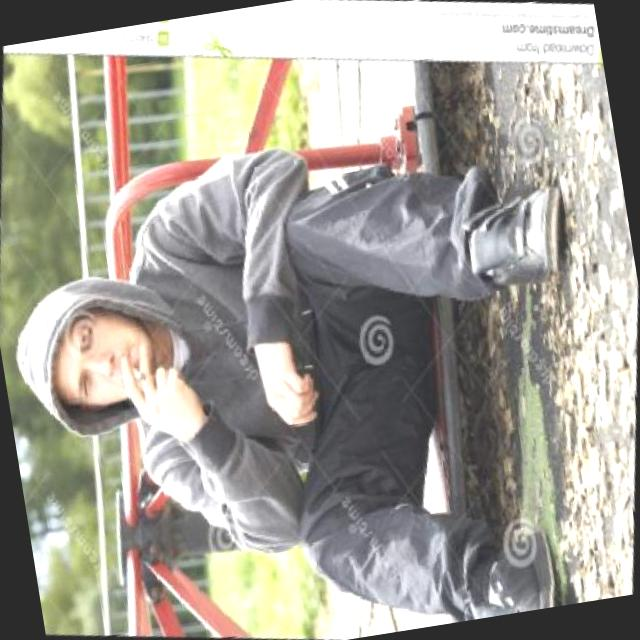smoke: (130, 362, 150, 384)
